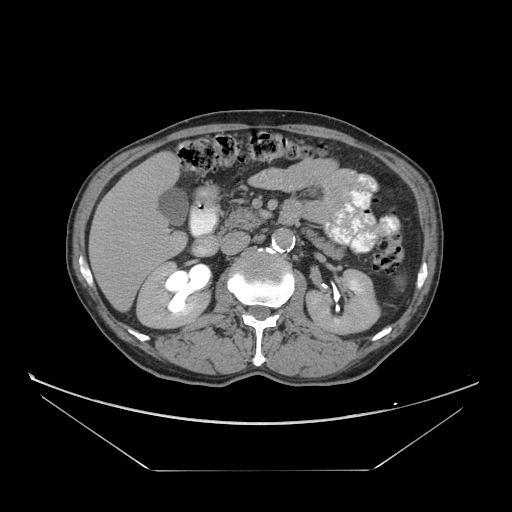left_kidney: (132, 260, 211, 320)
right_kidney: (307, 262, 385, 331)
